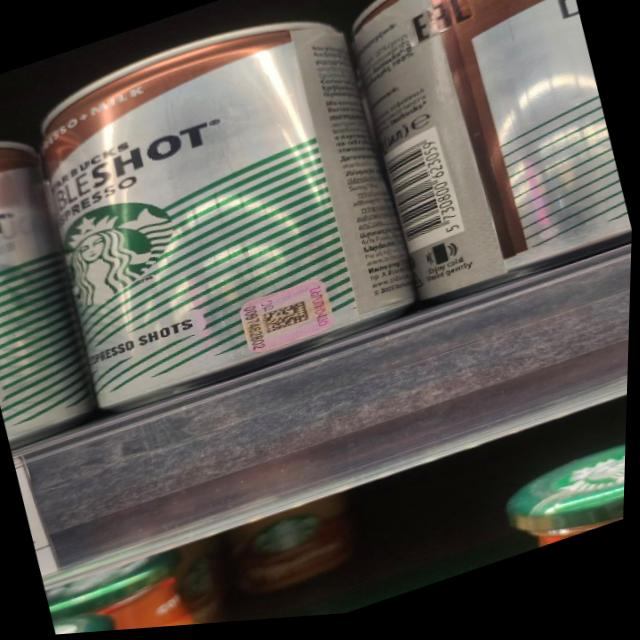datamatrix: (263, 303, 316, 340)
